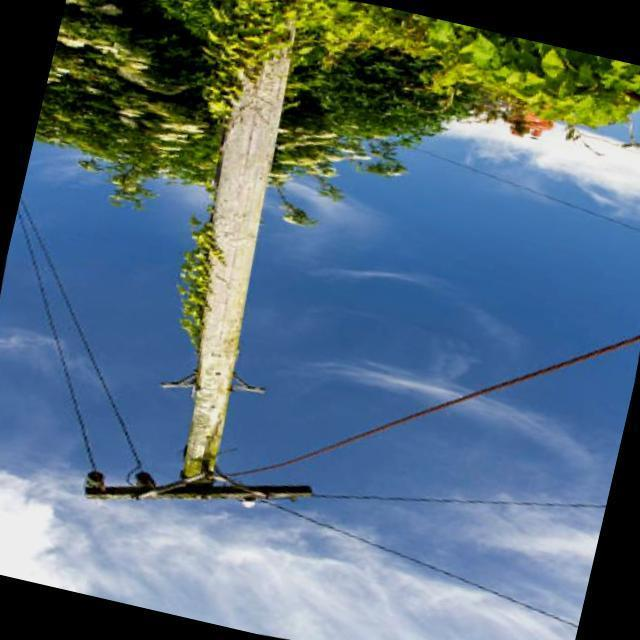critical vegetation: (145, 186, 251, 370), (167, 424, 241, 498)
